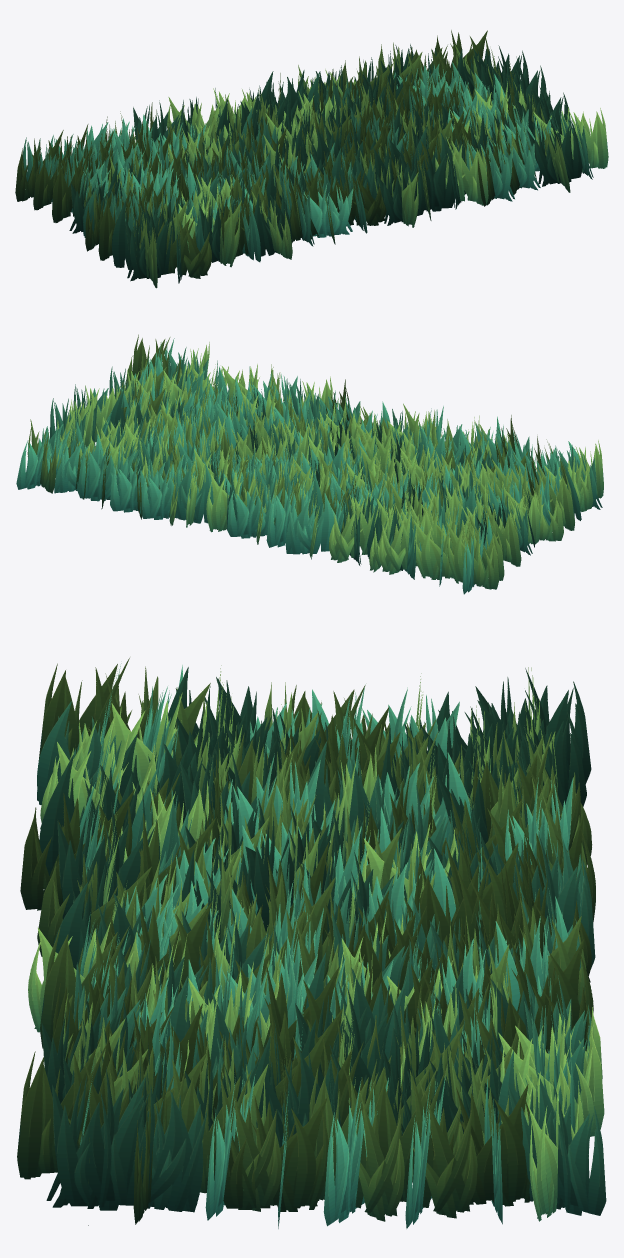
The model's file is brush_far.obj.
3 renders of one model, top to bottom at view 1: azimuth 30°, elevation 25°; view 2: azimuth 150°, elevation 25°; view 3: azimuth 270°, elevation 25°, orthographic. The views are drawn at different scales.
Size of the model in its own units: 9.02 by 1.35 by 4.81.
Materials: 1 (1 with a texture image).
